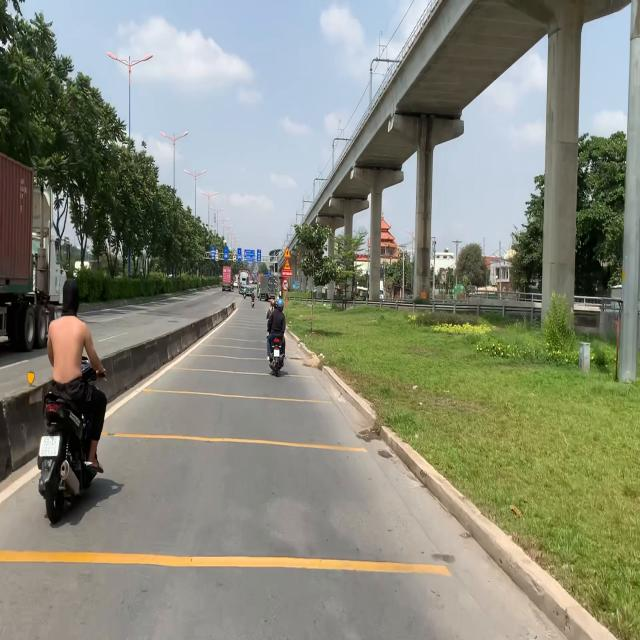Cam re phai: (281, 278, 289, 292)
Nguy hiem: (283, 258, 291, 270)
